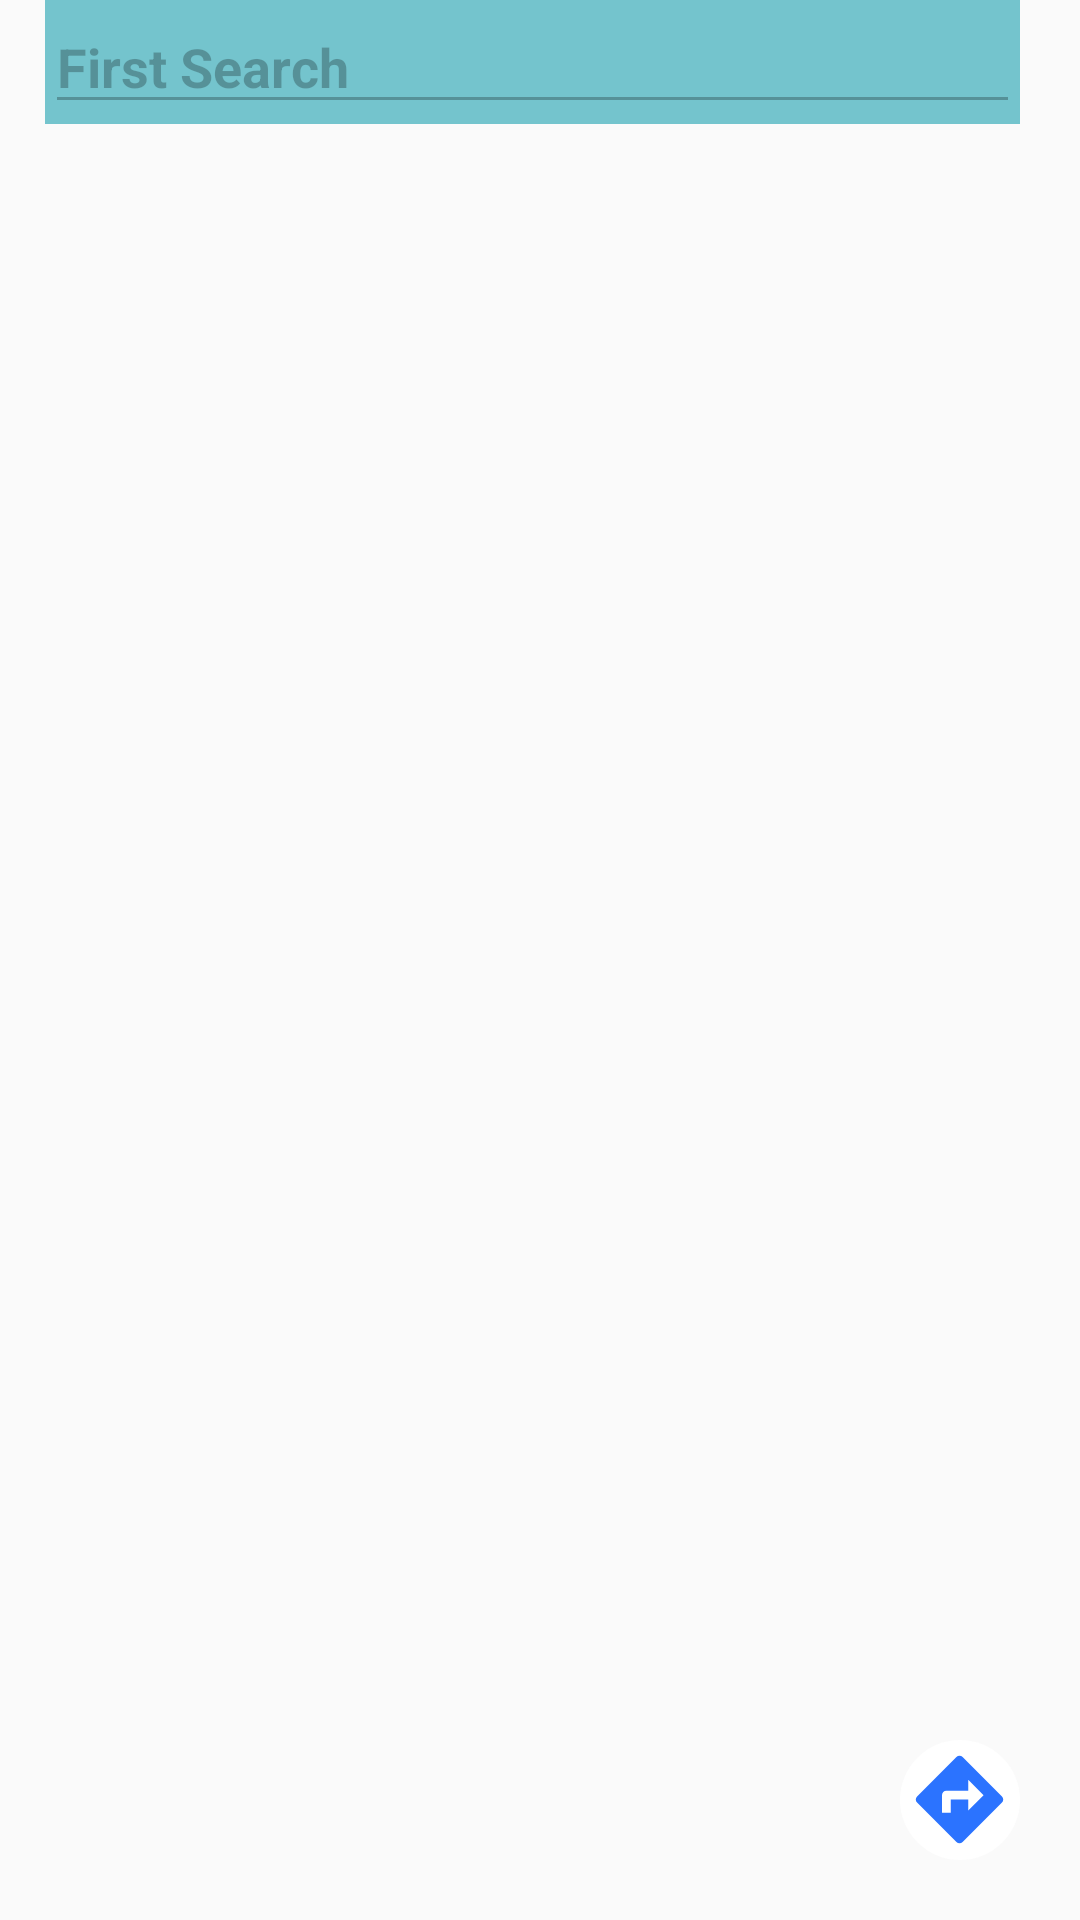

Screen size 1080×1920. Icon name, then its box in pixels as (x1, y1, x2, y2):
directions: (915, 1755, 1004, 1844)
